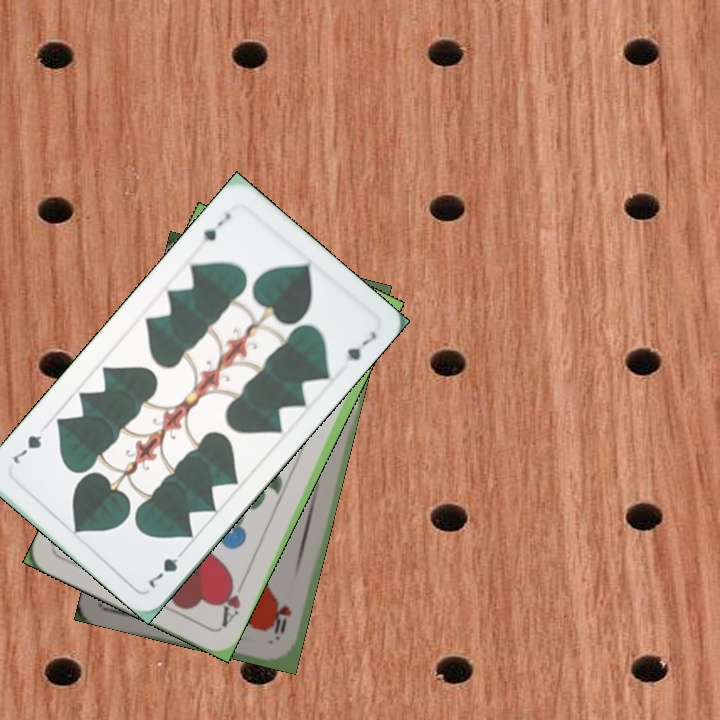G7: (145, 544, 189, 591), (194, 208, 234, 249)
HA: (217, 574, 248, 631)
HO: (269, 601, 294, 643)
